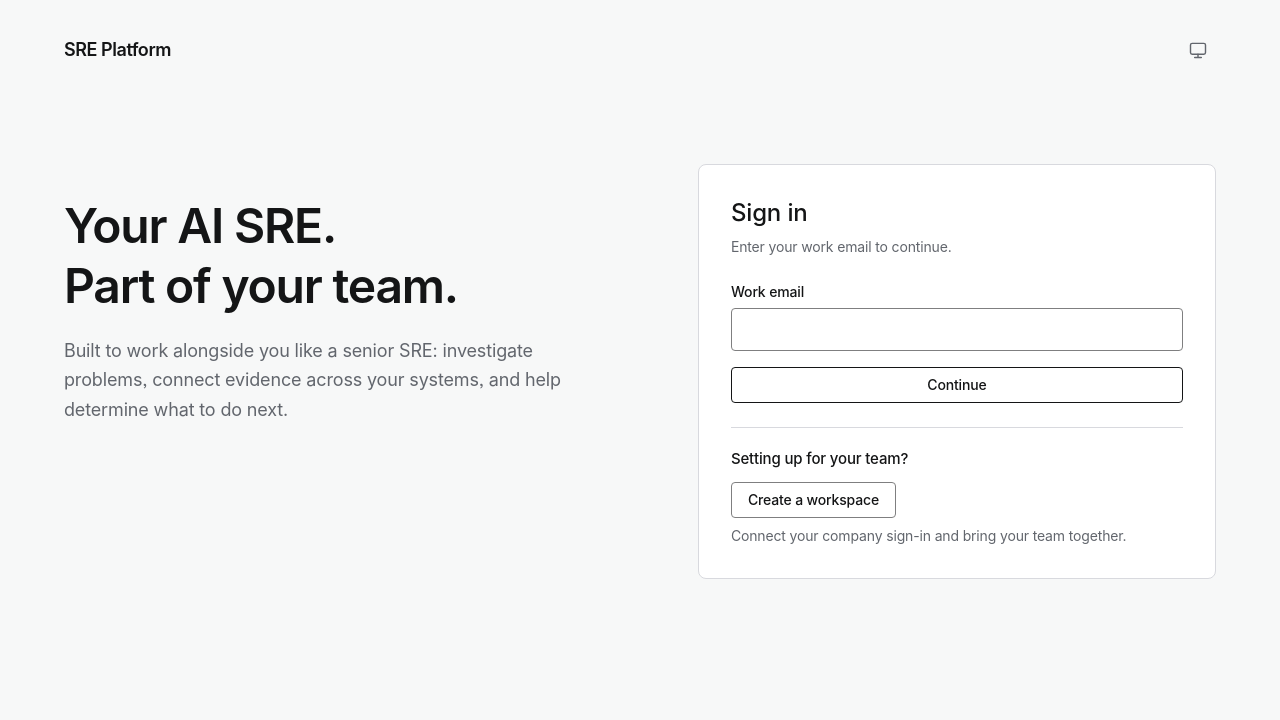
Test case: a different email cannot reuse the remembered founder route
Type "other@example.test" into the field labelled "Work email" at (957, 329), box [731, 308, 1183, 350]
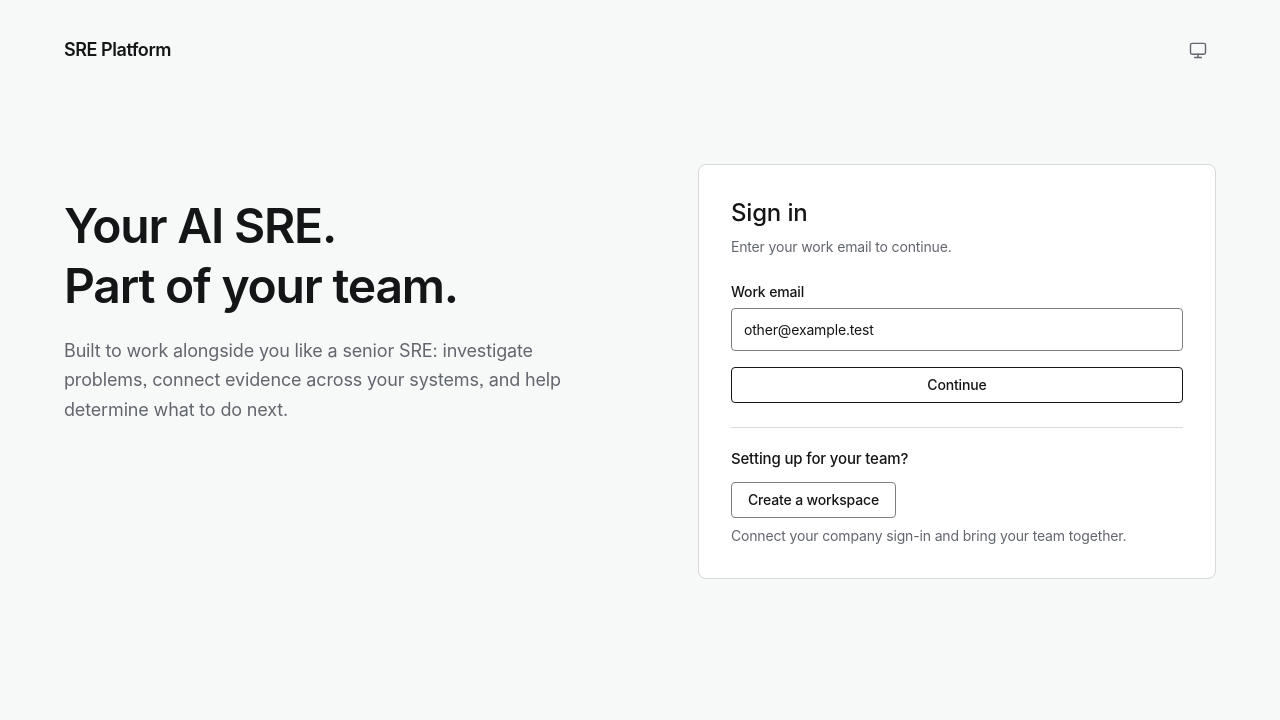
Click the button "Continue" at (957, 384), box [731, 366, 1183, 402]
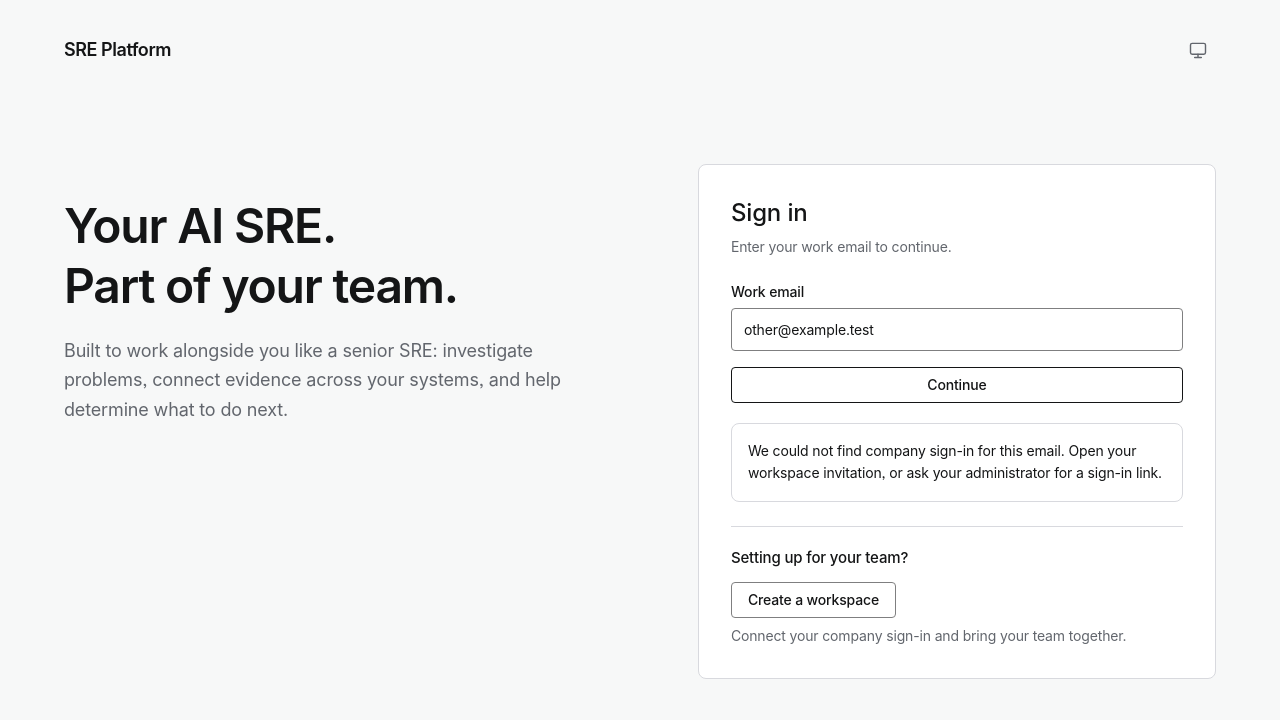
Check: the text "We could not find company sign-in" is shown, box [748, 442, 1162, 481]
